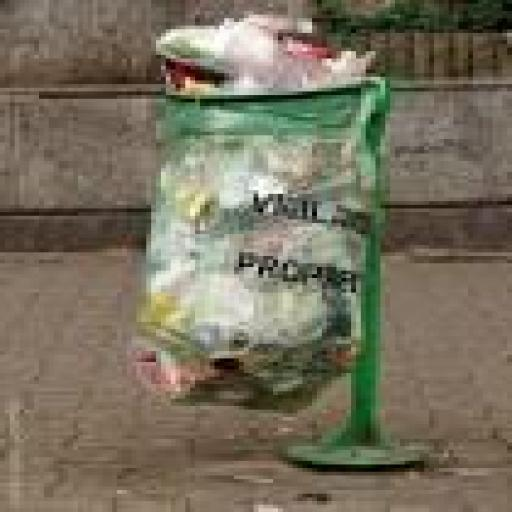poubelle_pleine: (117, 10, 460, 466)
